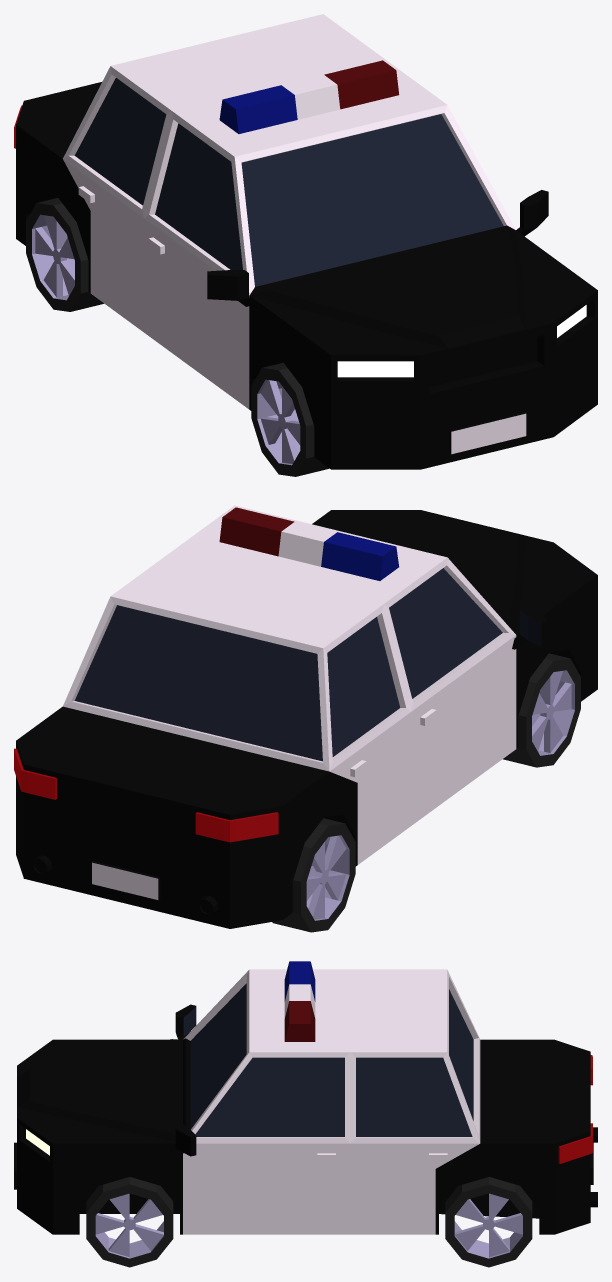
The model's file is police-sedan.glb.
3 views of the same model, one above another, from view 1: azimuth 30°, elevation 25°; view 2: azimuth 150°, elevation 25°; view 3: azimuth 270°, elevation 25° (orthographic). The views are drawn at different scales.
Parts seen in each view (by area): view 1: Police_Sedan, wheel_front_right, wheel_rear_right; view 2: Police_Sedan, wheel_rear_right, wheel_front_right; view 3: Police_Sedan, wheel_front_left, wheel_rear_left.
Boxes of the visible parts, x1,y1,x2,y2 form: Police_Sedan: [14, 14, 597, 469]; wheel_front_right: [251, 362, 329, 476]; wheel_rear_right: [26, 198, 103, 311]; Police_Sedan: [14, 505, 597, 928]; wheel_rear_right: [272, 818, 355, 932]; wheel_front_right: [503, 653, 580, 767]; Police_Sedan: [14, 961, 597, 1234]; wheel_front_left: [86, 1177, 173, 1267]; wheel_rear_left: [445, 1177, 532, 1267].
Size of the model in its own units: 281 by 219 by 523.
